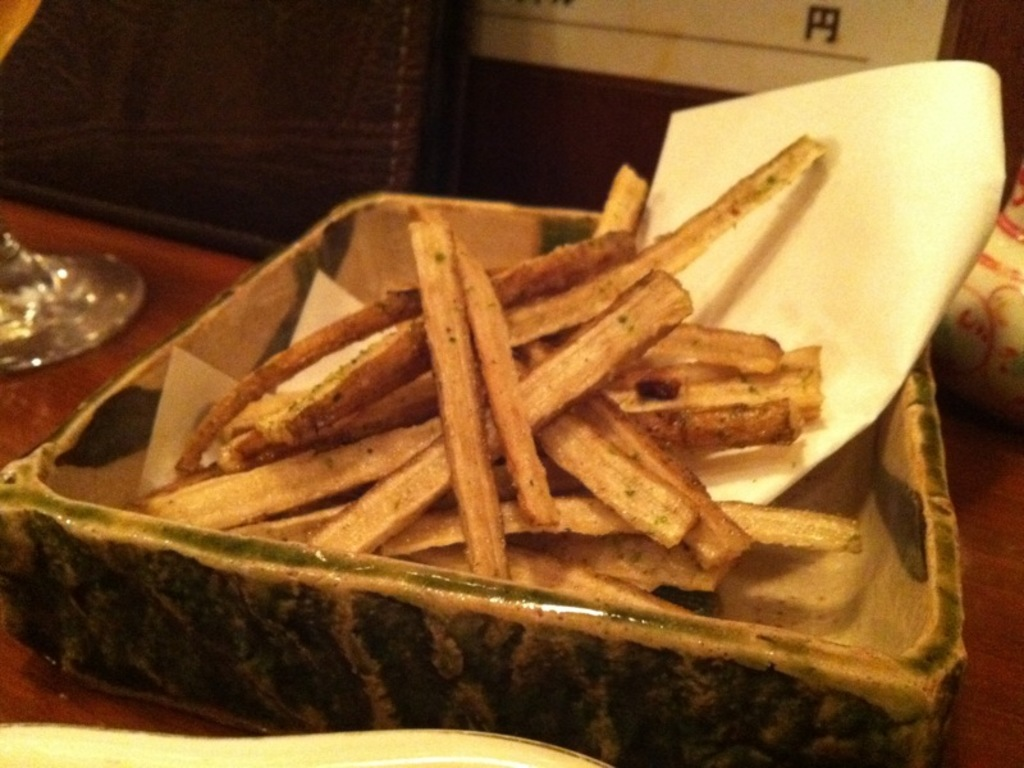French fries: (125, 122, 864, 588)
